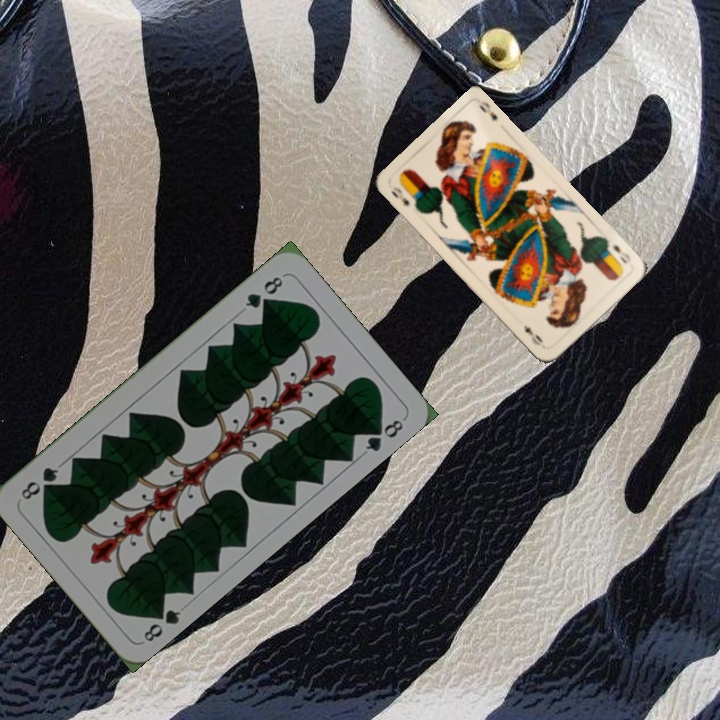EO: (608, 240, 633, 267), (388, 182, 413, 209)
G8: (139, 601, 184, 645), (241, 272, 286, 312)
